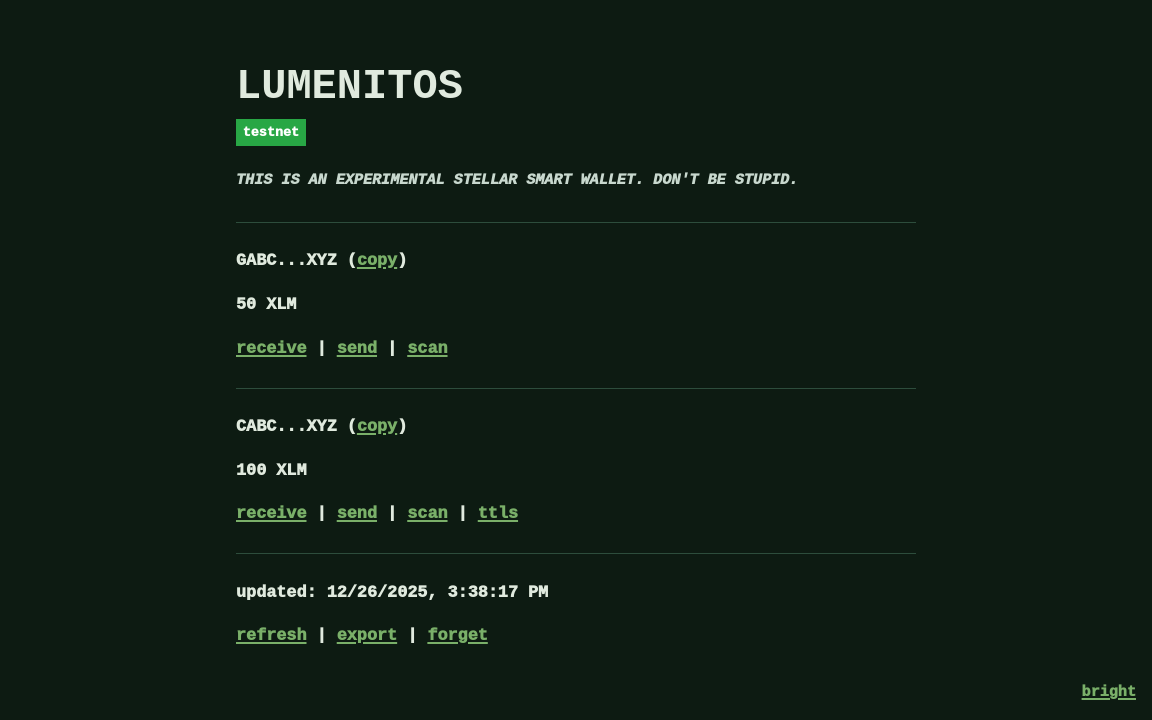
WalletDashboard › Send modal › opens send modal for classic account
Note: Click the first "send" link (classic account)
Click the 1st link "send".
click(357, 348)  # box [337,339,377,358]
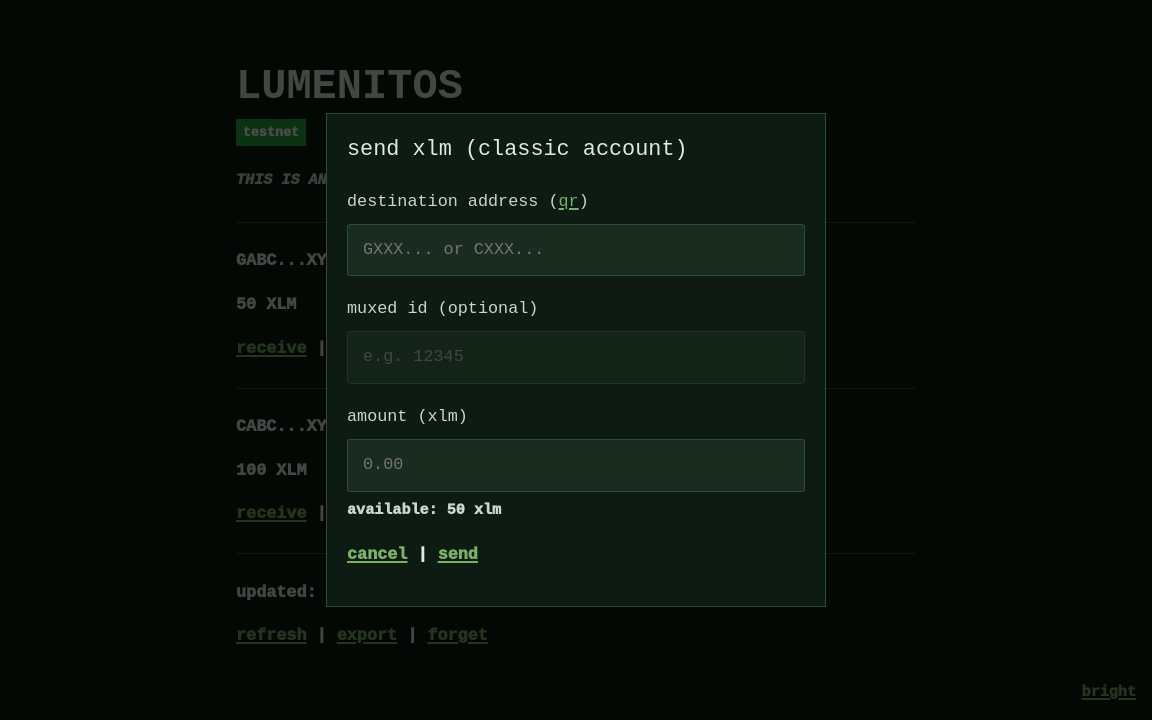
Expected: the heading "send xlm (classic account)" is shown, [347,137,688,162]
